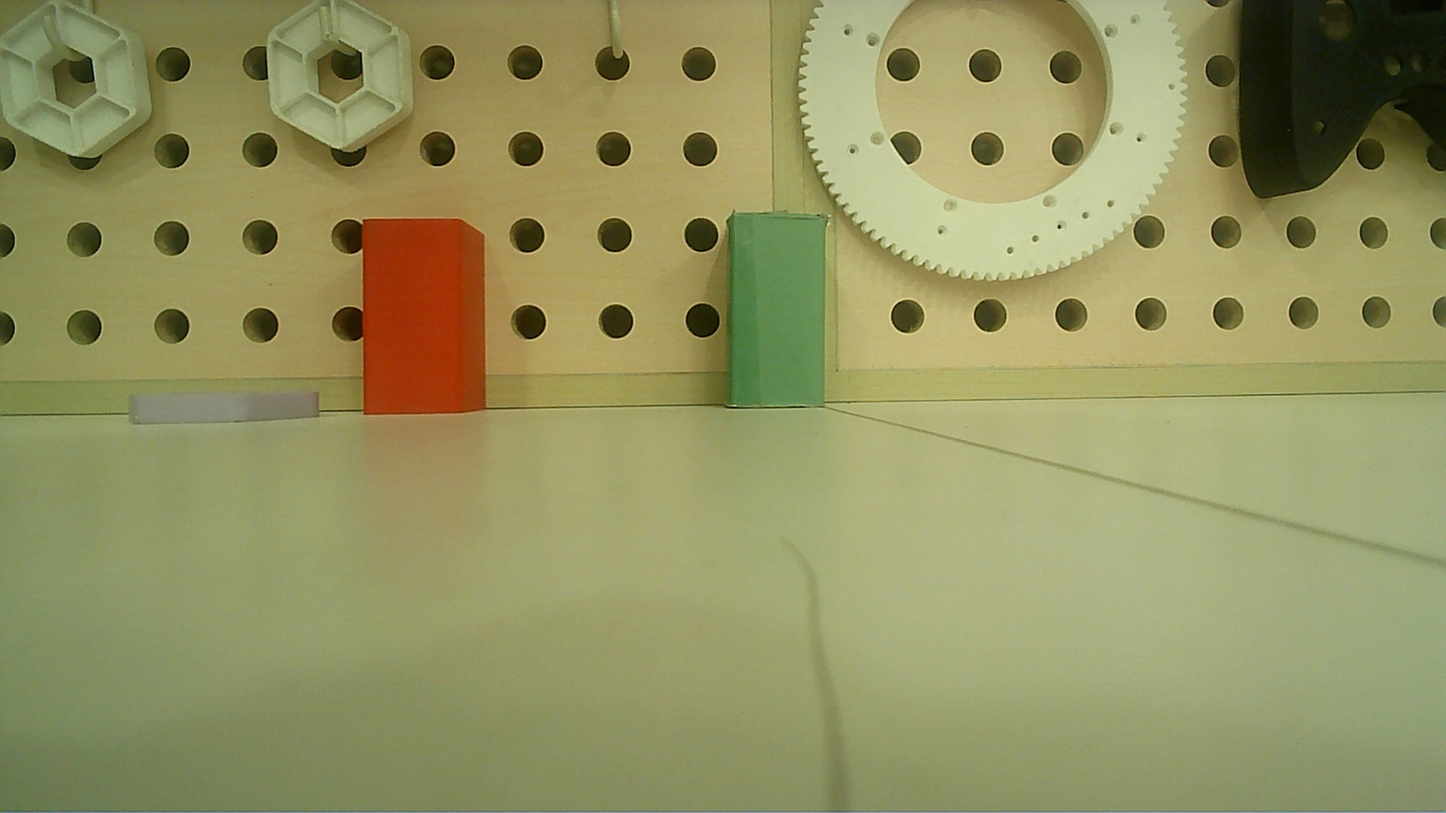green: (727, 212, 831, 412)
